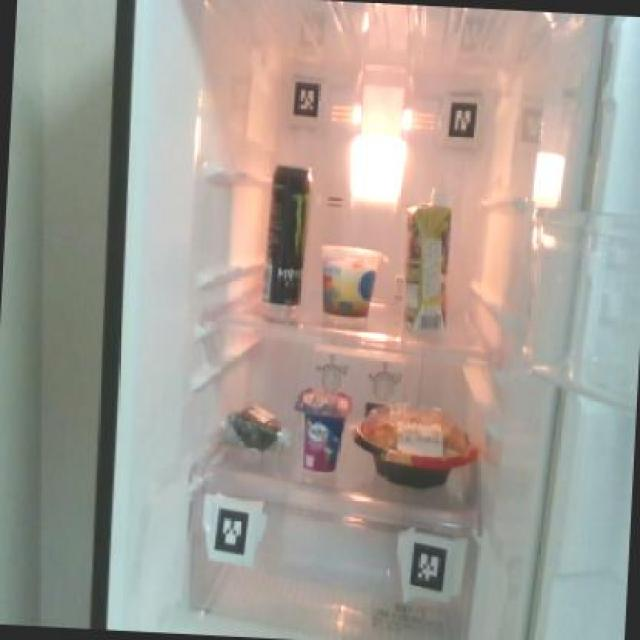bento: (347, 401, 478, 493)
energy_drink: (258, 159, 312, 307)
pudding: (316, 240, 381, 318)
rice_ball: (216, 395, 289, 457)
smoothie: (398, 183, 453, 332)
yogurt: (292, 386, 352, 474)
